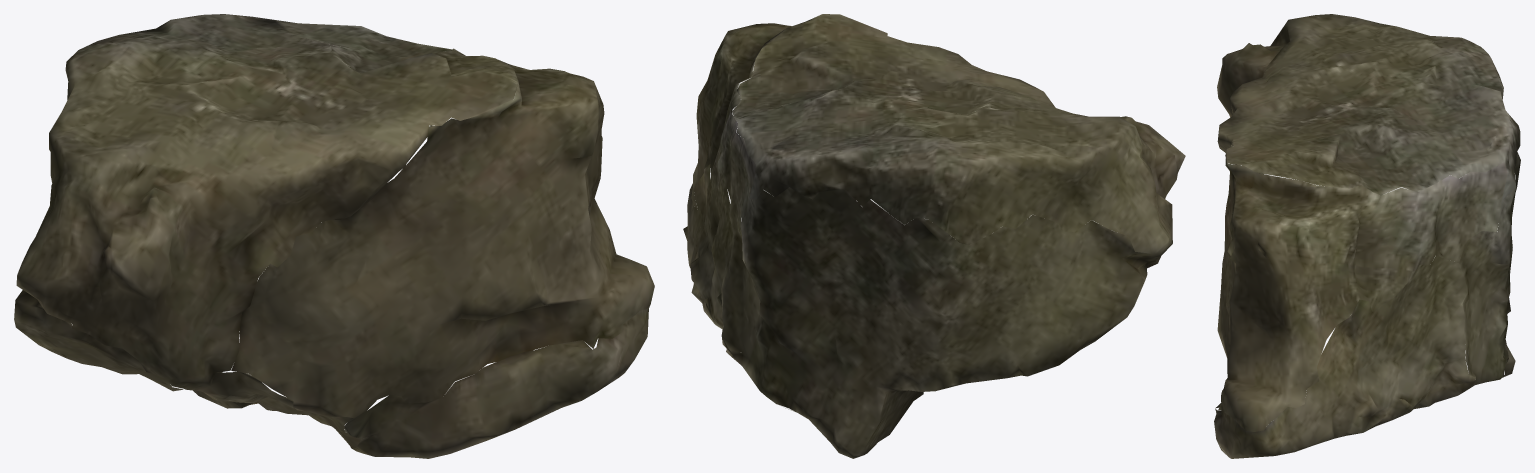
Rendered from rock-moss-set-02-rock13.glb.
3 views of the same model, side by side, from view 1: azimuth 30°, elevation 25°; view 2: azimuth 150°, elevation 25°; view 3: azimuth 270°, elevation 25° (orthographic). The views are drawn at different scales.
Parts seen in each view (by area): view 1: rock_moss_set_02_rock13; view 2: rock_moss_set_02_rock13; view 3: rock_moss_set_02_rock13.
Boxes of the visible parts, x1,y1,x2,y2 form: rock_moss_set_02_rock13: (14, 14, 654, 458); rock_moss_set_02_rock13: (683, 14, 1185, 458); rock_moss_set_02_rock13: (1214, 14, 1520, 458).
Bounding box in the file's own units: 2.09 × 1.25 × 1.14.
1 material, 1 textured.
